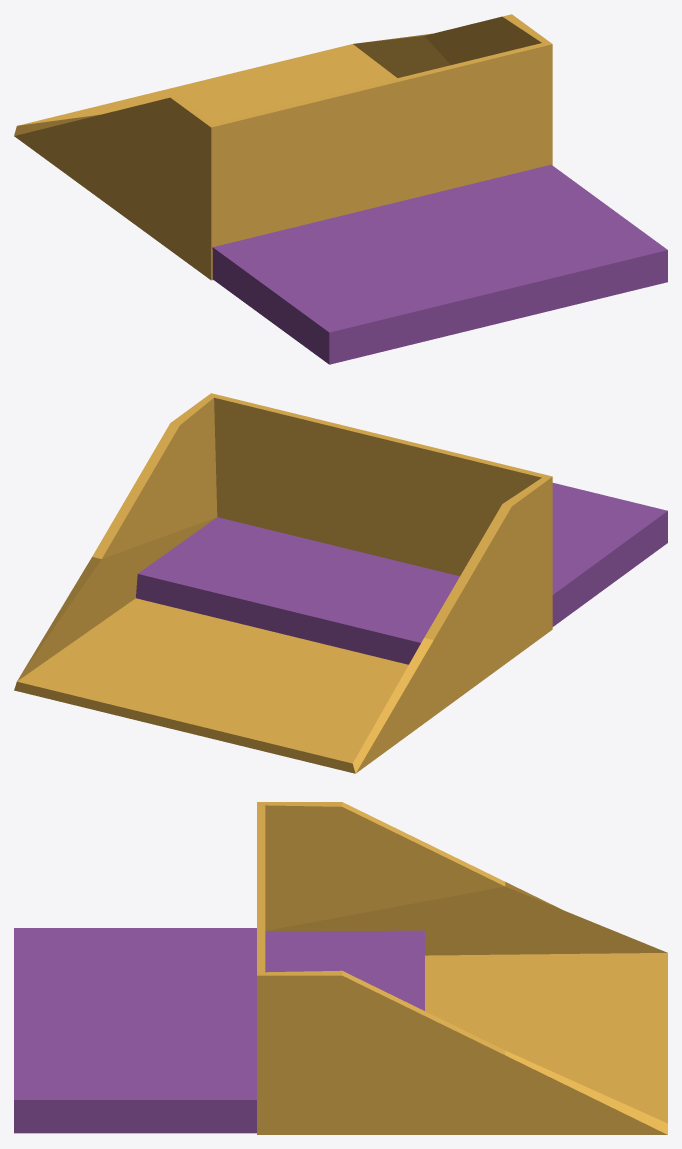
File: machine.gltf
The picture shows the model from 3 angles, top to bottom: view 1: azimuth 30°, elevation 25°; view 2: azimuth 150°, elevation 25°; view 3: azimuth 270°, elevation 25°; orthographic projection. The views are drawn at different scales.
Visible parts, largest first — view 1: box, pusher; view 2: box, pusher; view 3: box, pusher.
Boxes of the visible parts, x1=… form: box: x1=14, y1=14, x2=552, y2=280; pusher: x1=212, y1=164, x2=667, y2=364; box: x1=14, y1=393, x2=552, y2=773; pusher: x1=136, y1=483, x2=667, y2=664; box: x1=257, y1=802, x2=667, y2=1134; pusher: x1=14, y1=928, x2=424, y2=1133.
Size of the model in its own units: 15.71 by 6.72 by 25.
